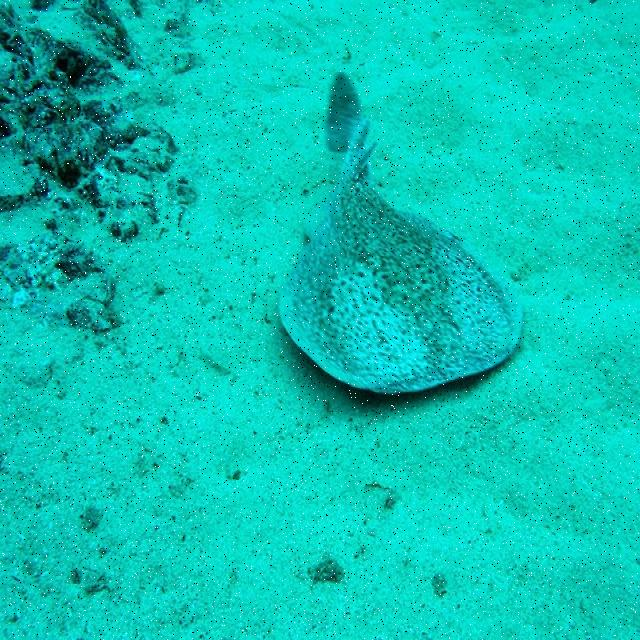fish: (280, 71, 523, 398)
